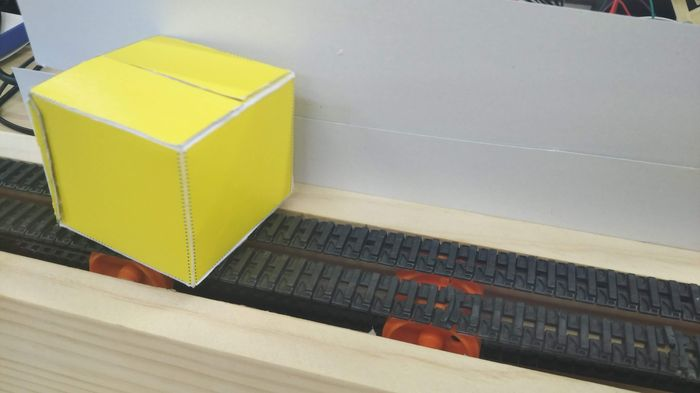box4: (22, 33, 300, 287)
